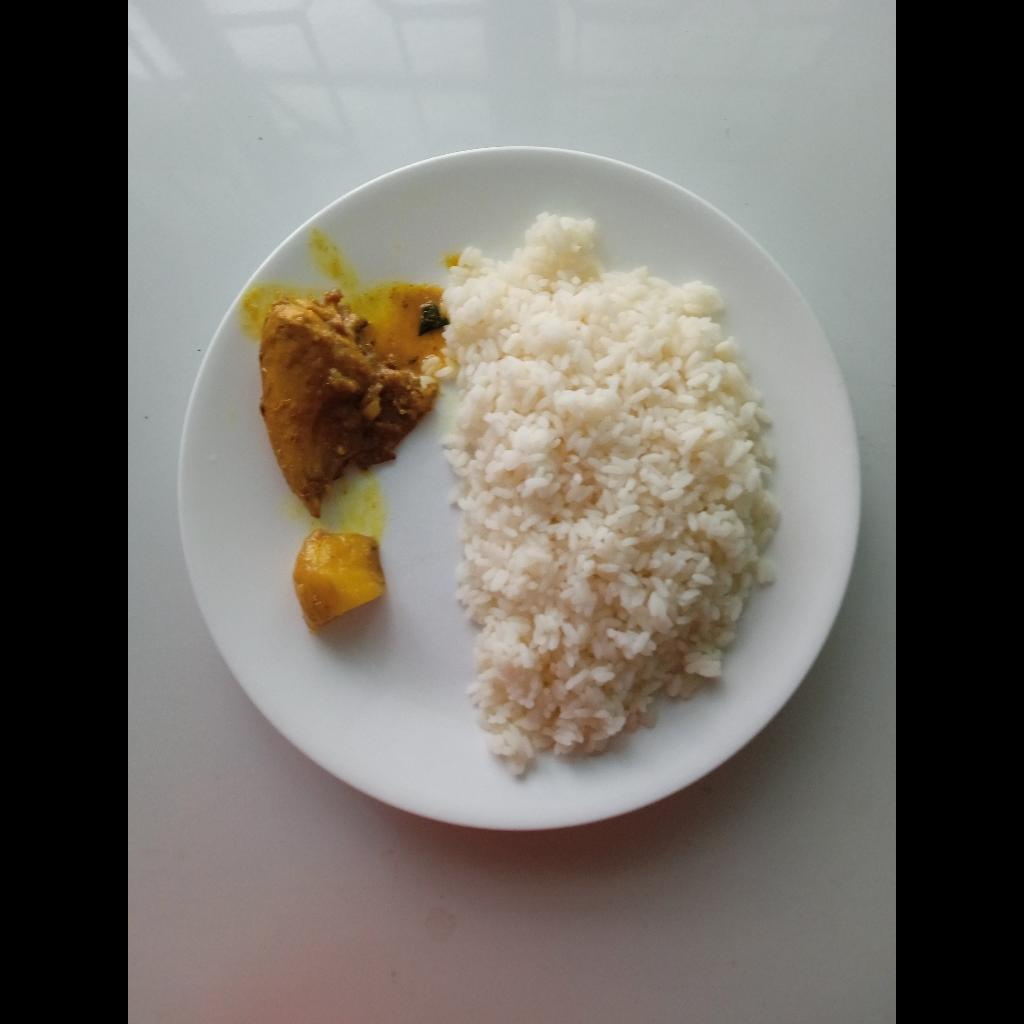chicken: (255, 292, 426, 513)
potato: (295, 538, 382, 626)
rice: (455, 218, 782, 768)
